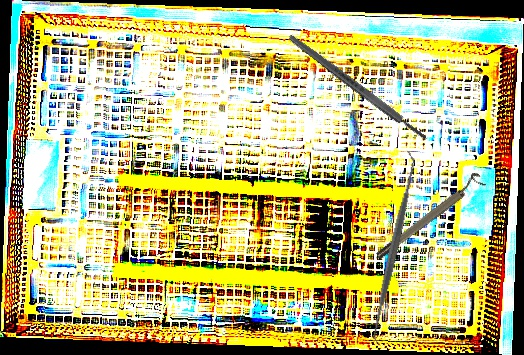Fixation Ring: (371, 170, 487, 262)
Scalpel Handle: (285, 31, 431, 144)
Spatula Surgical: (361, 149, 426, 346)
